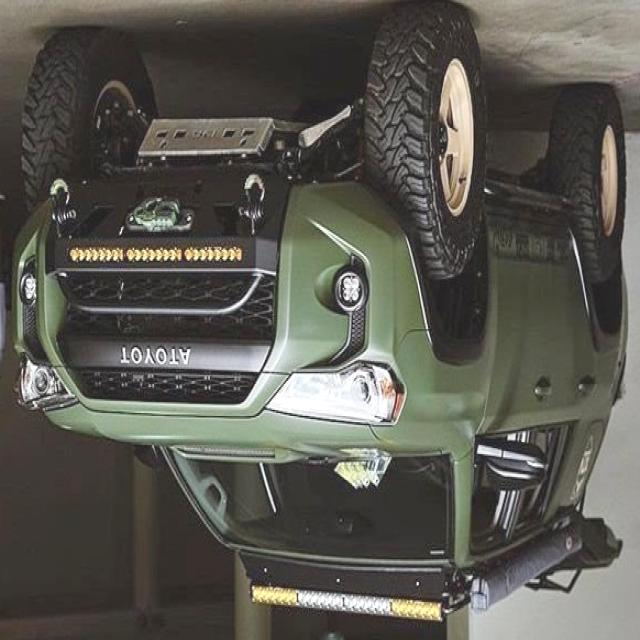green: (21, 15, 630, 616)
